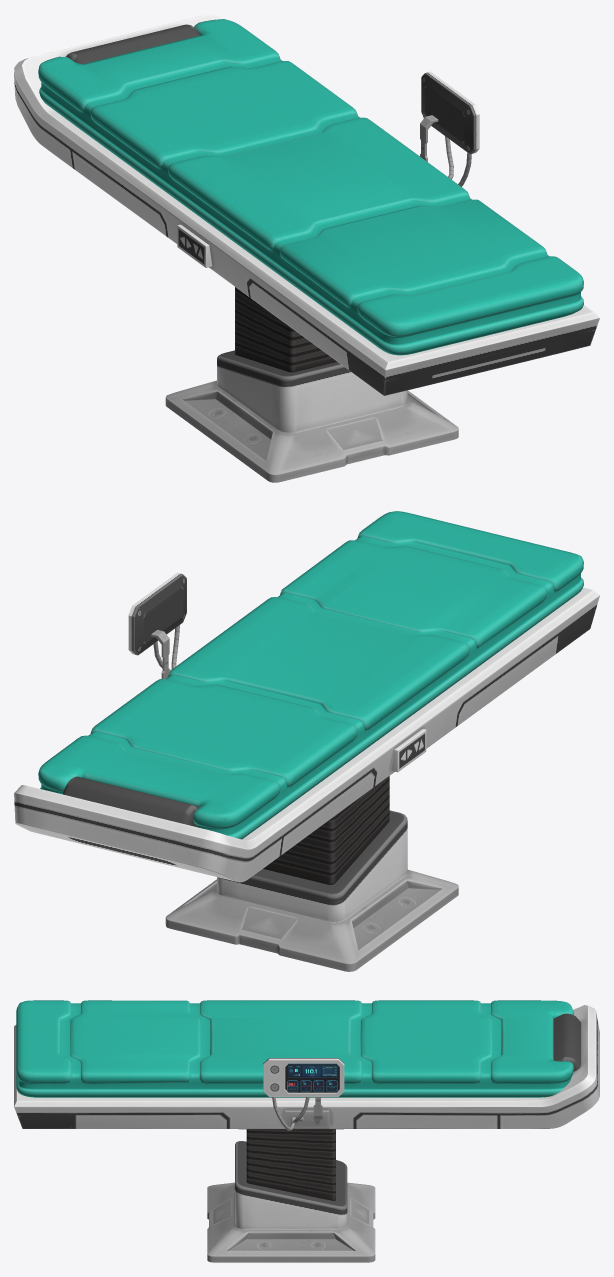
The model's file is MedSurgicalTable01.FBX.
3 renders of one model, top to bottom at view 1: azimuth 30°, elevation 25°; view 2: azimuth 150°, elevation 25°; view 3: azimuth 270°, elevation 25°, orthographic. The views are drawn at different scales.
Parts seen in each view (by area): view 1: MedSurgicalTable01; view 2: MedSurgicalTable01; view 3: MedSurgicalTable01.
Boxes of the visible parts, x1,y1,x2,y2 form: MedSurgicalTable01: [14, 14, 599, 482]; MedSurgicalTable01: [14, 511, 599, 971]; MedSurgicalTable01: [14, 1000, 599, 1262].
Size of what is drawn, in the model's own units: 0.9818 by 1.05 by 2.5.
